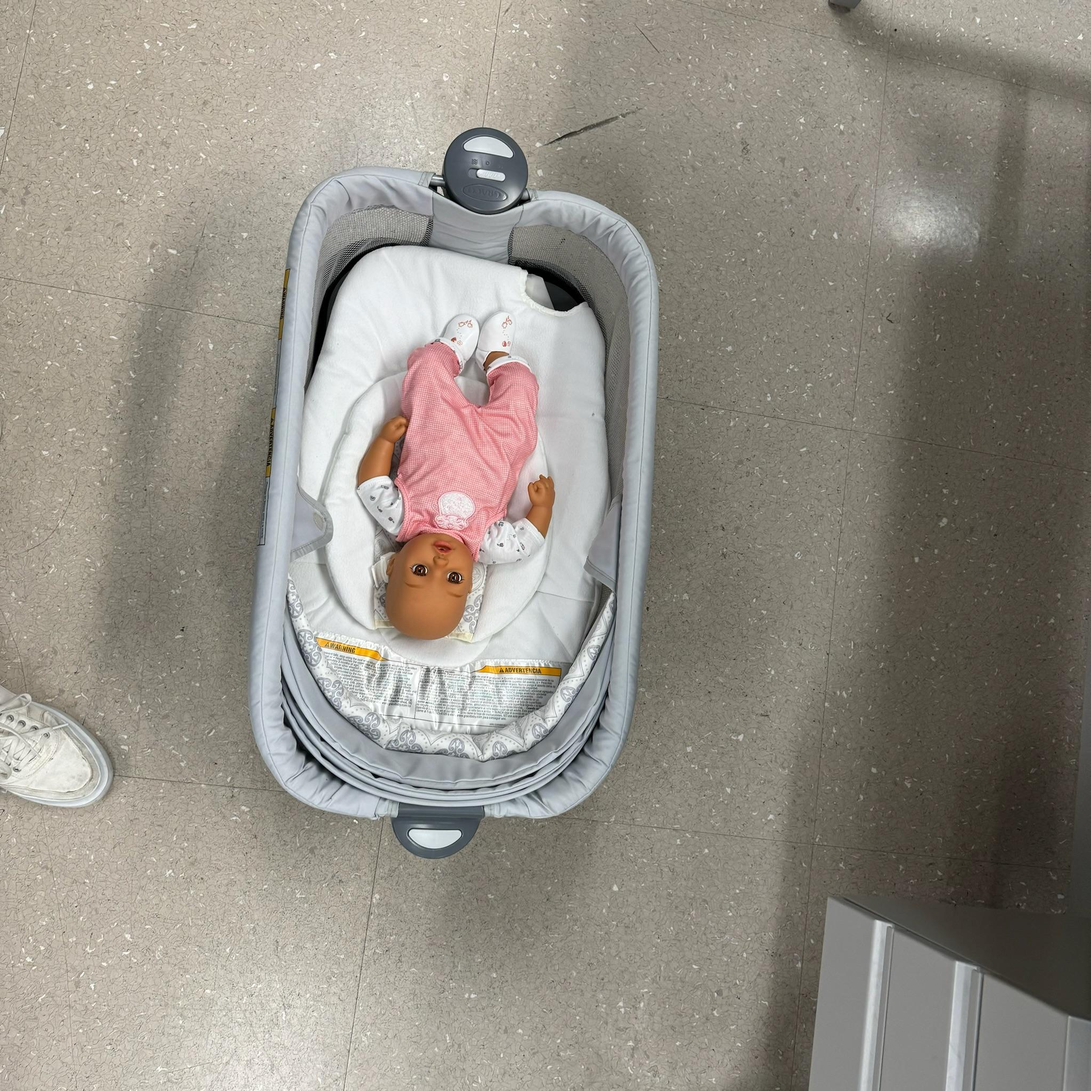baby: (352, 302, 558, 645)
